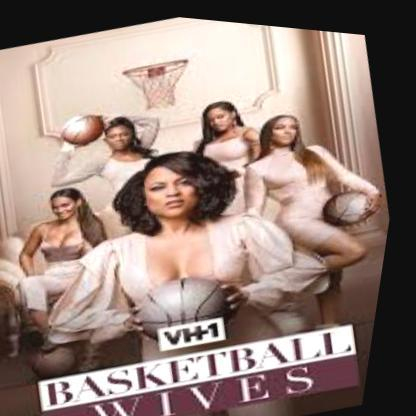basketball: (135, 260, 250, 348), (325, 176, 387, 227), (58, 105, 114, 151), (39, 338, 93, 381)
rim: (122, 48, 195, 83)
